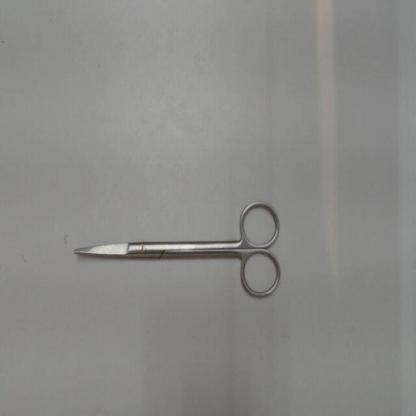Curved Mayo Scissors: (73, 201, 283, 304)
